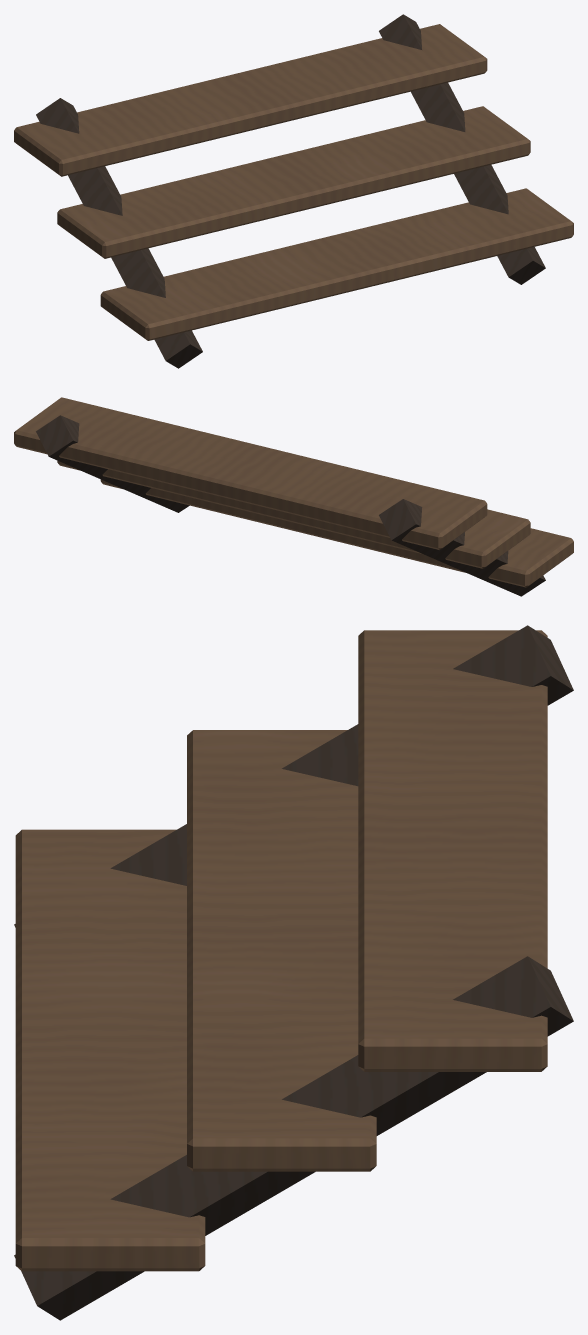
The model's file is AR_Stairs_3Steps.glb.
3 renders of one model, top to bottom at view 1: azimuth 30°, elevation 25°; view 2: azimuth 150°, elevation 25°; view 3: azimuth 270°, elevation 25°, orthographic. The views are drawn at different scales.
Visible parts, largest first — view 1: AR_Stairs_3Steps; view 2: AR_Stairs_3Steps; view 3: AR_Stairs_3Steps.
Part boxes in pixels (x1,y1,x2,y2): AR_Stairs_3Steps: (14,14,573,368); AR_Stairs_3Steps: (14,397,573,596); AR_Stairs_3Steps: (14,625,573,1320).
Size of the model in its own units: 1.6 by 0.6578 by 0.9157.
Materials: 2 (2 with a texture image).
